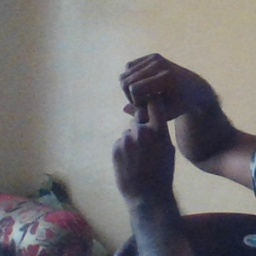Q: (106, 52, 204, 187)
